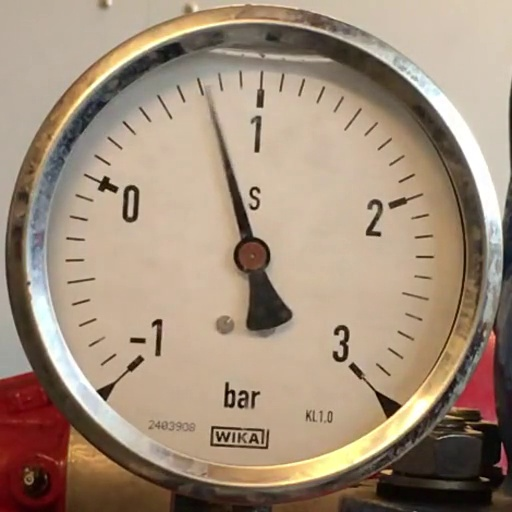base: (234, 238, 270, 274)
circle_plate: (48, 55, 465, 466)
maximum: (348, 362, 366, 380)
minimum: (127, 355, 144, 372)
number: (126, 314, 166, 360), (362, 196, 386, 242), (328, 322, 352, 364), (120, 182, 142, 226), (245, 111, 265, 157)
tip: (202, 84, 209, 92)
